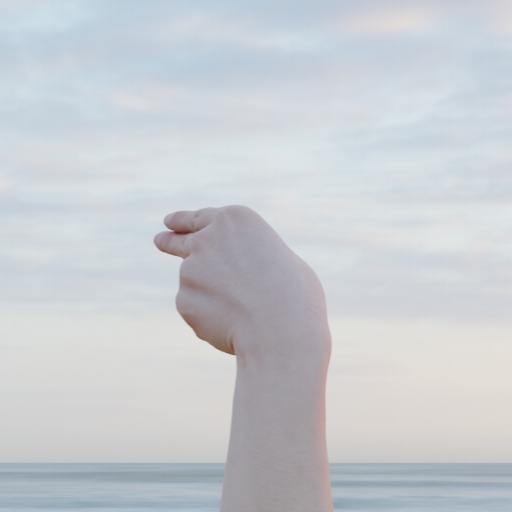H: (132, 157, 416, 512)
